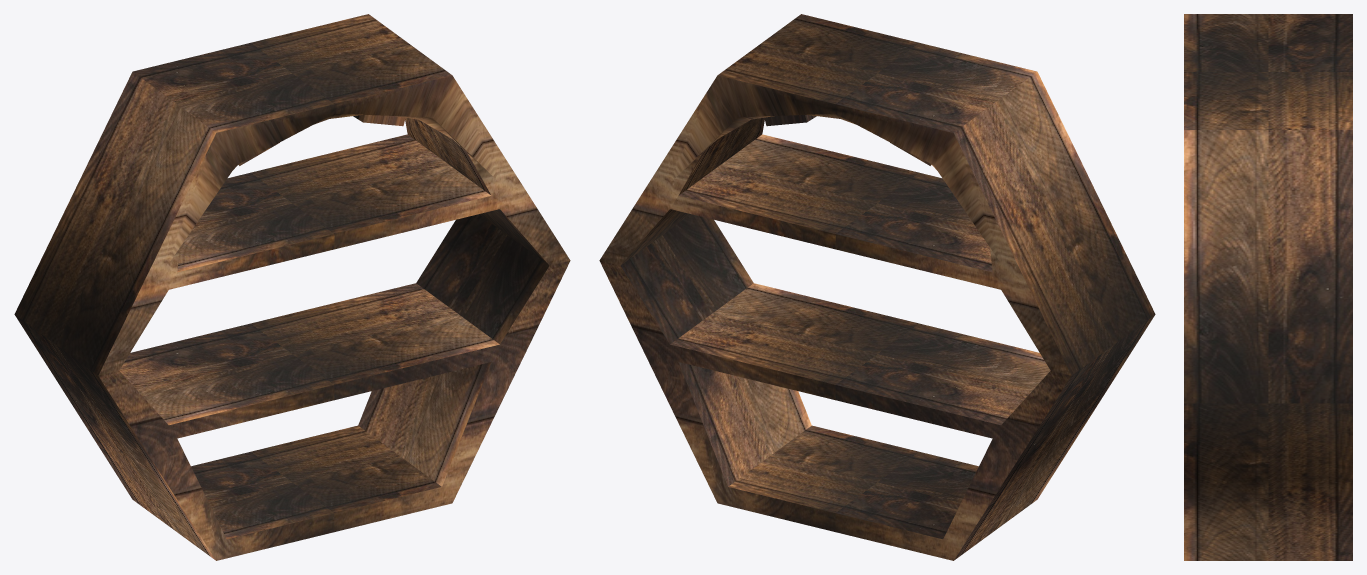
The picture shows the model from 3 angles, left to right: view 1: azimuth 30°, elevation 25°; view 2: azimuth 150°, elevation 25°; view 3: azimuth 270°, elevation 25°; orthographic projection.
Parts seen in each view (by area): view 1: HFBXASC195FBXASC188lle; view 2: HFBXASC195FBXASC188lle; view 3: HFBXASC195FBXASC188lle.
Boxes of the visible parts, x1,y1,x2,y2 form: HFBXASC195FBXASC188lle: [14, 14, 570, 560]; HFBXASC195FBXASC188lle: [599, 14, 1155, 560]; HFBXASC195FBXASC188lle: [1184, 14, 1352, 560].
Size of the model in its own units: 10.98 by 9.51 by 3.38.
2 materials, 1 textured.
